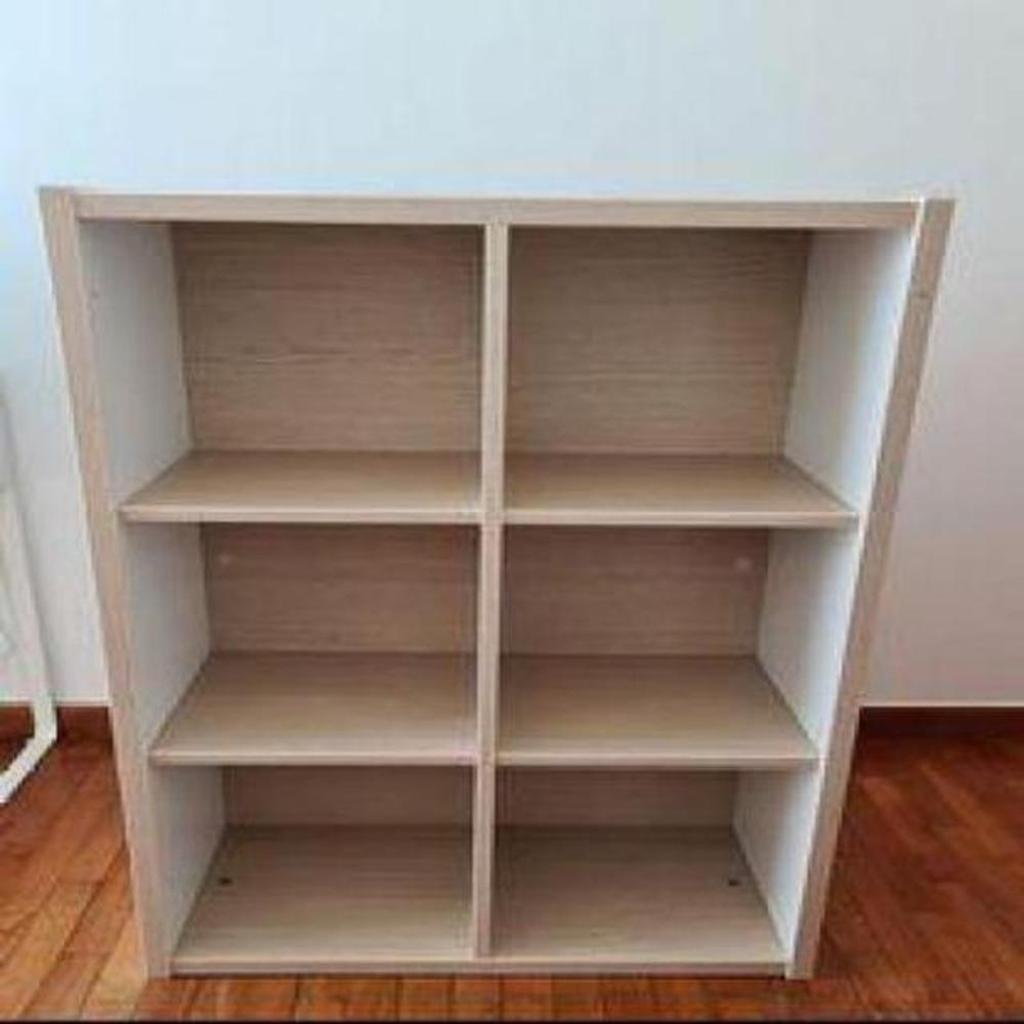lamp: (34, 182, 962, 995)
